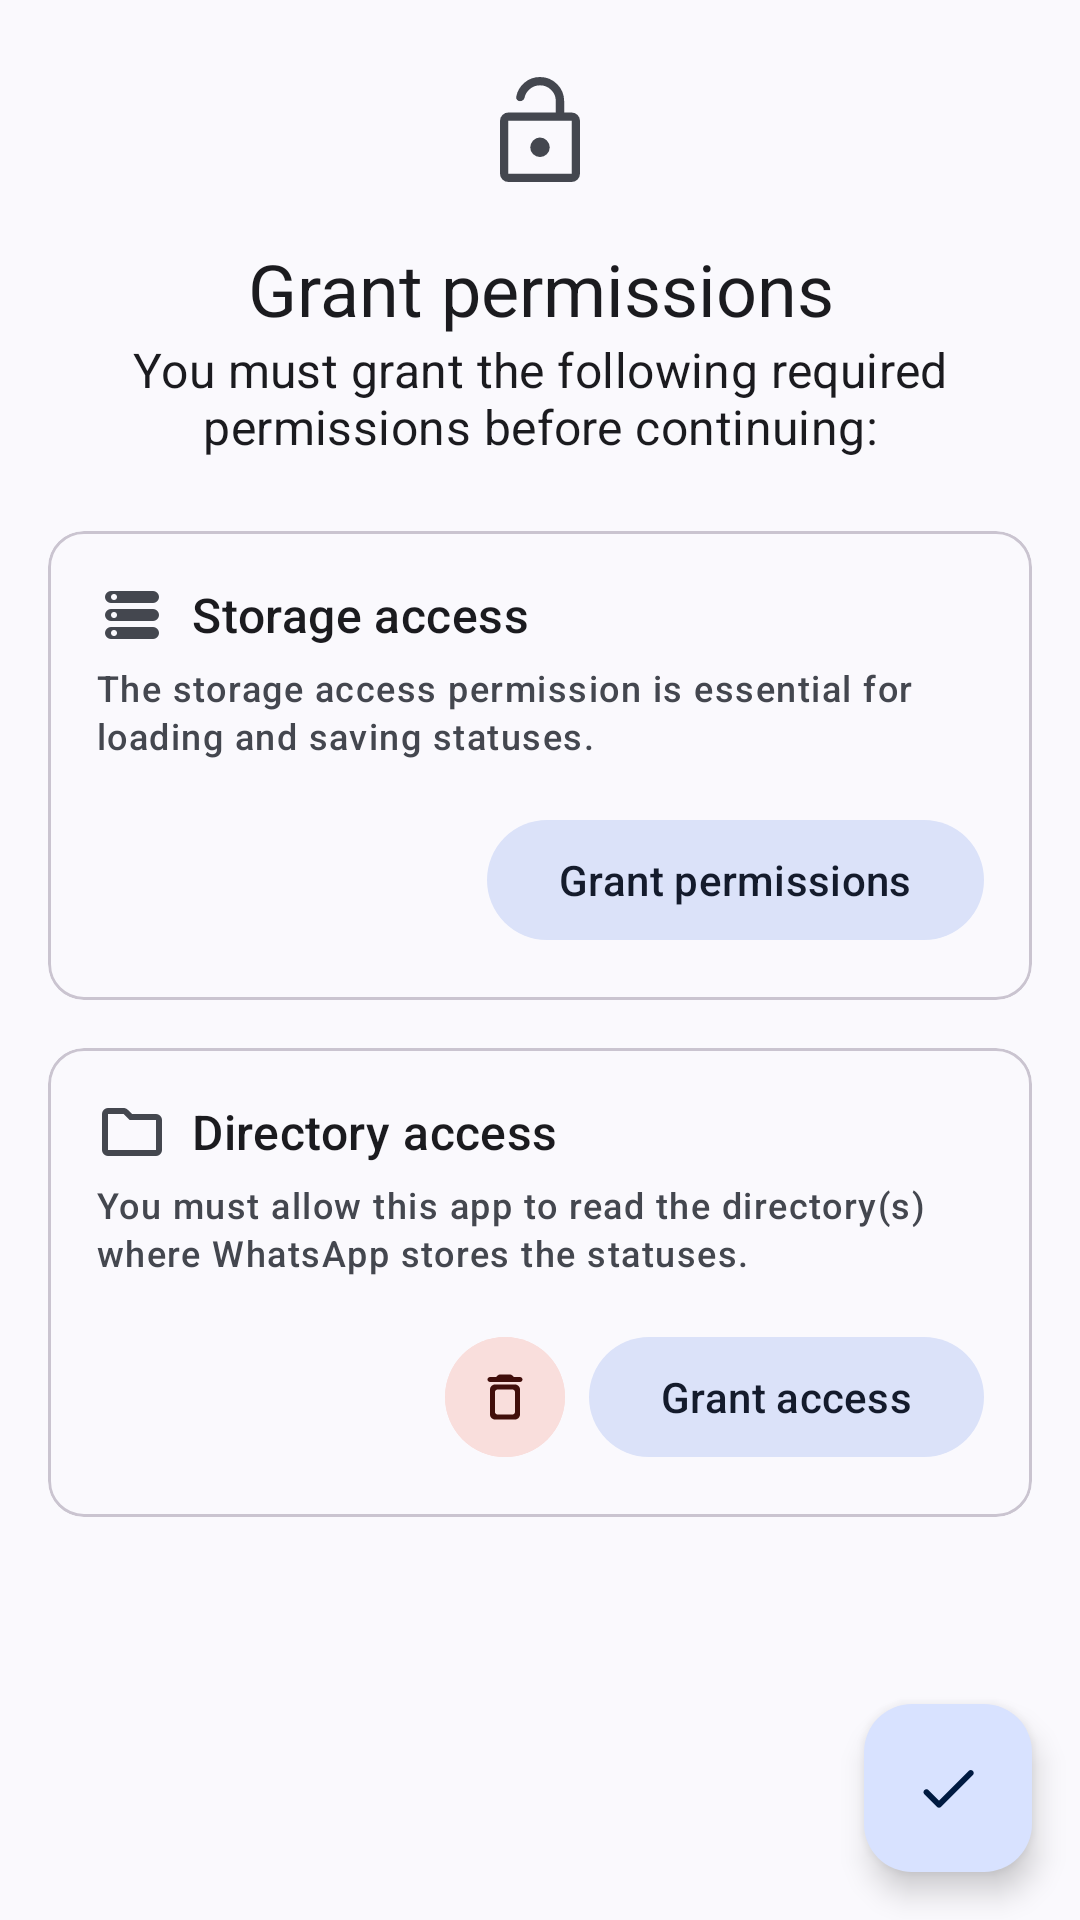

Named icons in this screenshot (1080px×1920px) and their bounding boxes, (x1, y1, x2, y2):
Continue: (864, 1704, 1032, 1872)
